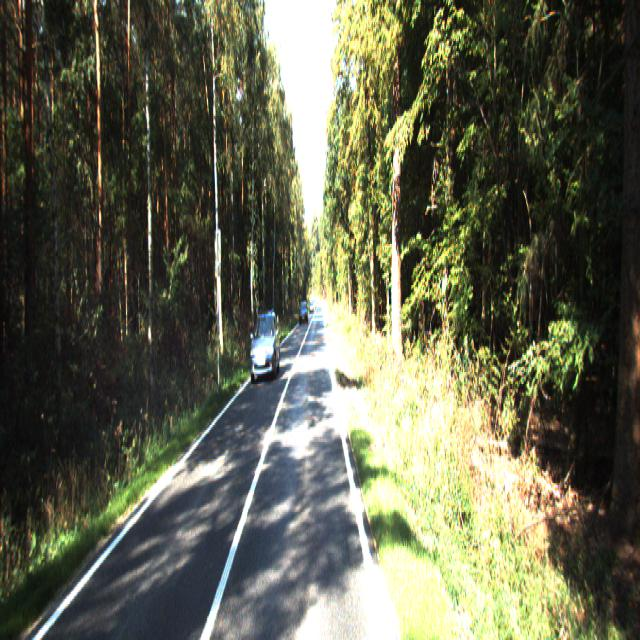Car: (249, 308, 282, 385)
